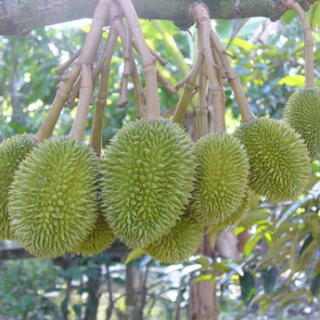sau_rieng: (97, 113, 202, 253), (6, 135, 103, 260), (234, 114, 315, 208)
